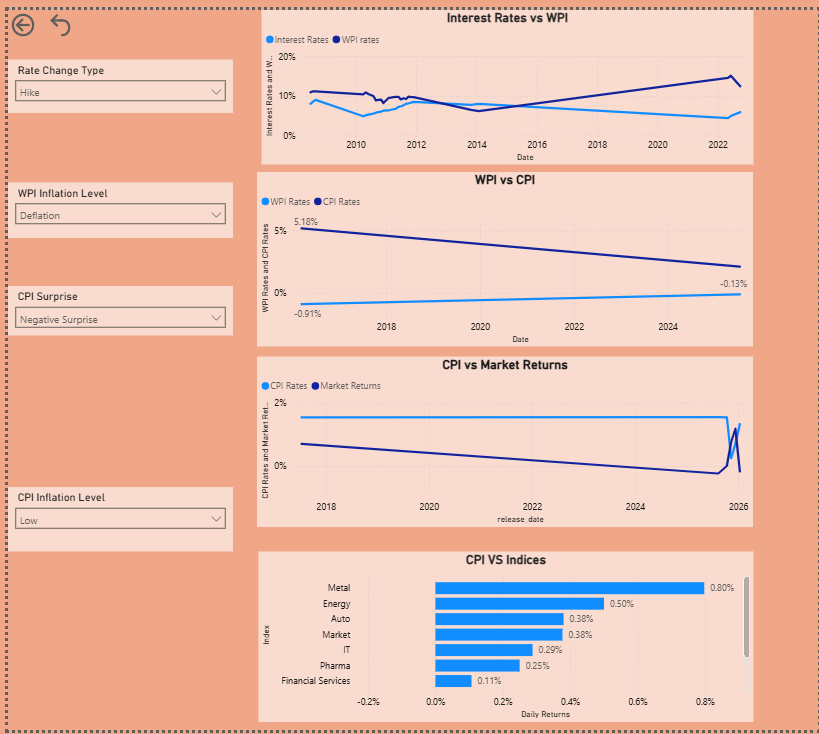

This screenshot's page, from the dashboard's own definition file:
{"tool":"powerbi","page":{"name":"Inflation Analysis","canvas":[1080,960],"ordinal":2},"visuals":[{"type":"lineChart","title":"WPI vs CPI","fields":{"Category":["facts_wpi.release_date"],"Y":["Sum(facts_wpi.actual)","Sum(facts_cpi.actual)"]},"box":[332.9,215.7,661.4,232.9],"z":0},{"type":"slicer","fields":{"Values":["facts_wpi.wpi_inflation_type"]},"box":[0,230,300,74.3],"z":1000},{"type":"slicer","fields":{"Values":["facts_cpi.Surprise"]},"box":[0,367.1,300,65.7],"z":2000},{"type":"slicer","fields":{"Values":["facts_cpi.cpi_inflation_type"]},"box":[0,636.2,300,86.2],"z":3000},{"type":"slicer","fields":{"Values":["facts_interest_rates.Rate Change Type"]},"box":[0,66.2,300,71.2],"z":4000},{"type":"lineChart","title":"Interest Rates vs WPI","fields":{"Category":["facts_interest_rates.release_date"],"Y":["Avg(facts_interest_rates.actual)","Sum(facts_interest_rates.Effective Interest Rate)"]},"box":[338,0,656,206],"z":5000},{"type":"lineChart","title":"CPI vs Market Returns","fields":{"Category":["facts_cpi.release_date"],"Y":["Sum(facts_cpi.actual)","facts_market_indices.Avg Daily Return"]},"box":[332.9,461.4,661.4,227.1],"z":6000},{"type":"clusteredBarChart","title":"CPI  VS Indices","fields":{"Category":["Sector Table.Sector"],"Y":["facts_market_indices.Selected Index Daily Return"]},"box":[334.3,722.9,660,227.1],"z":7000},{"type":"actionButton","box":[0,0,100,40],"z":8000},{"type":"actionButton","box":[50,0,58.8,40],"z":9000}]}

Visuals, with their boxes on the page's 1080x960 design canvas (x1, y1, x2, y2). These are canvas units, not pixel positions in the 819x734 screenshot, which may show the page scaled, cropped or inside an application window:
"WPI vs CPI" lineChart: 333:216:994:449
slicer - facts_wpi.wpi_inflation_type: 0:230:300:304
slicer - facts_cpi.Surprise: 0:367:300:433
slicer - facts_cpi.cpi_inflation_type: 0:636:300:722
slicer - facts_interest_rates.Rate Change Type: 0:66:300:137
"Interest Rates vs WPI" lineChart: 338:0:994:206
"CPI vs Market Returns" lineChart: 333:461:994:688
"CPI  VS Indices" clusteredBarChart: 334:723:994:950
actionButton: 0:0:100:40
actionButton: 50:0:109:40
